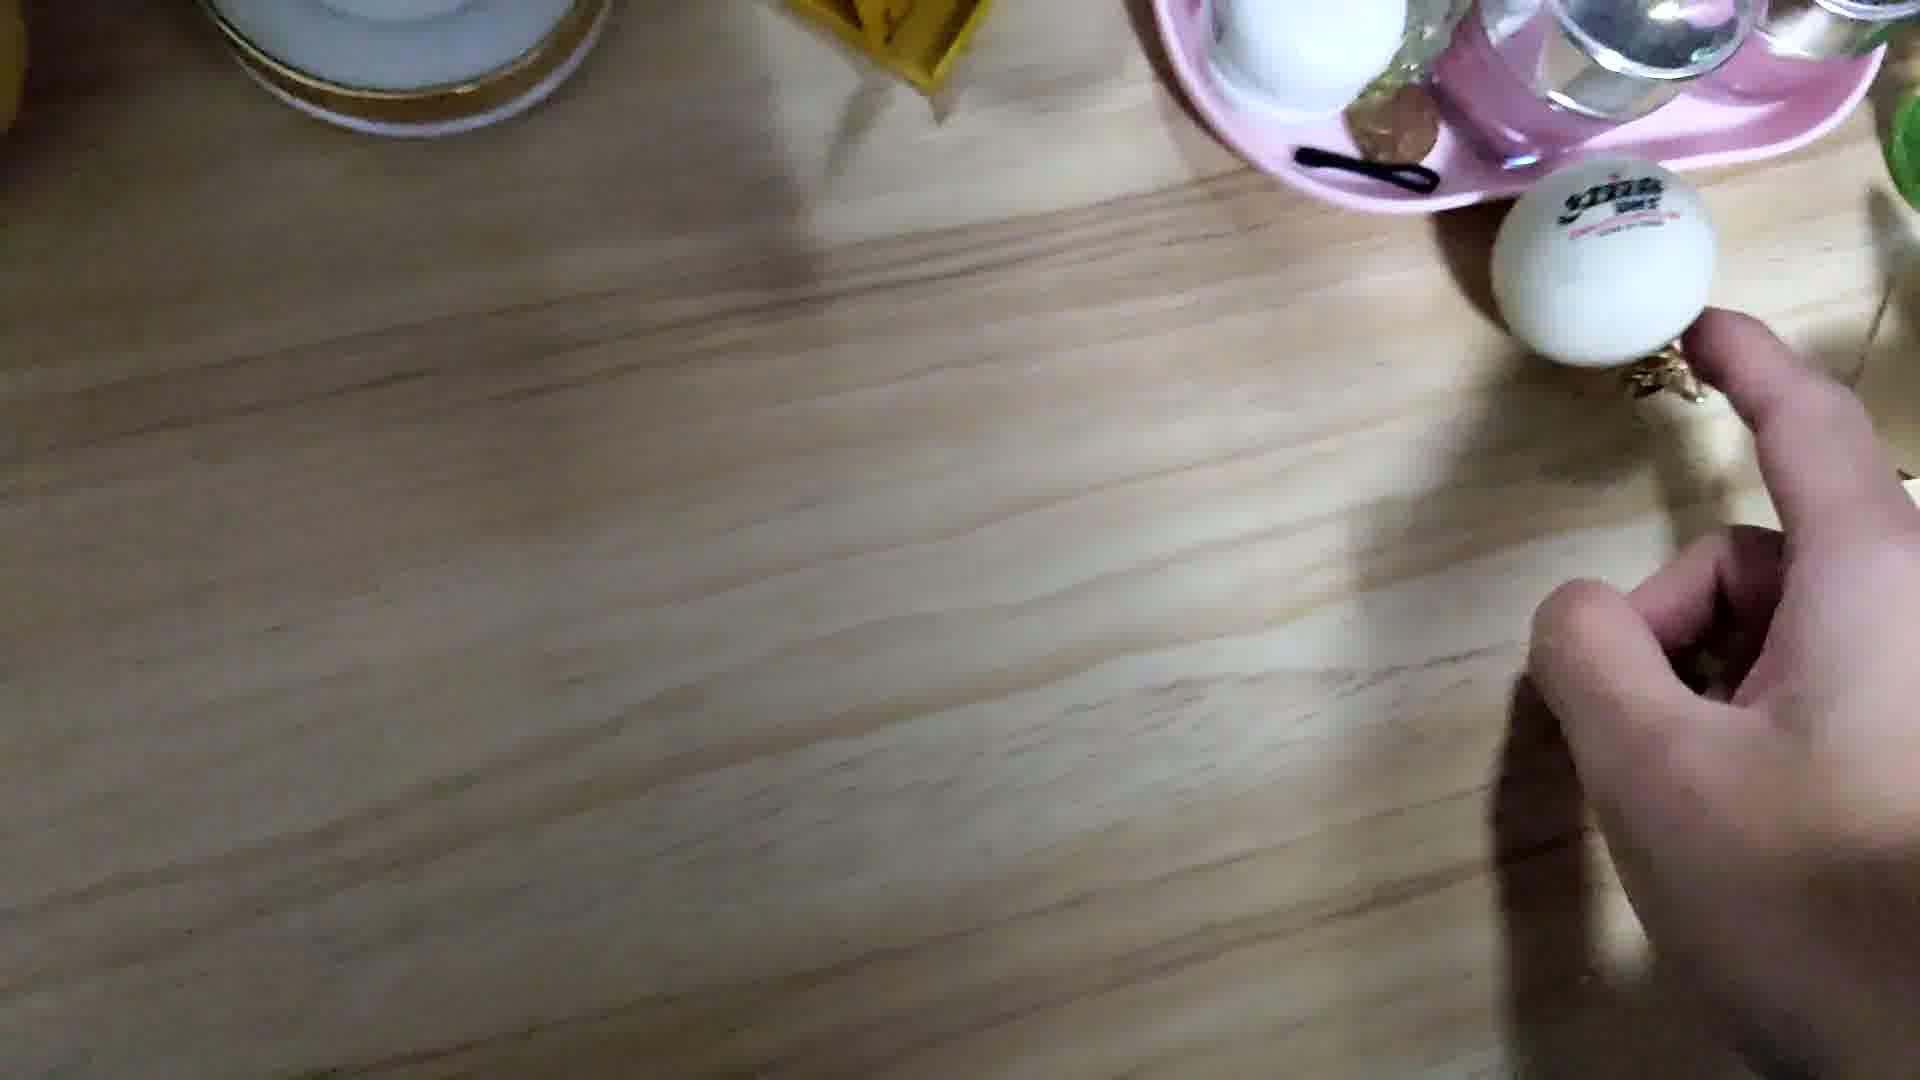Ball: (1495, 161, 1722, 361)
